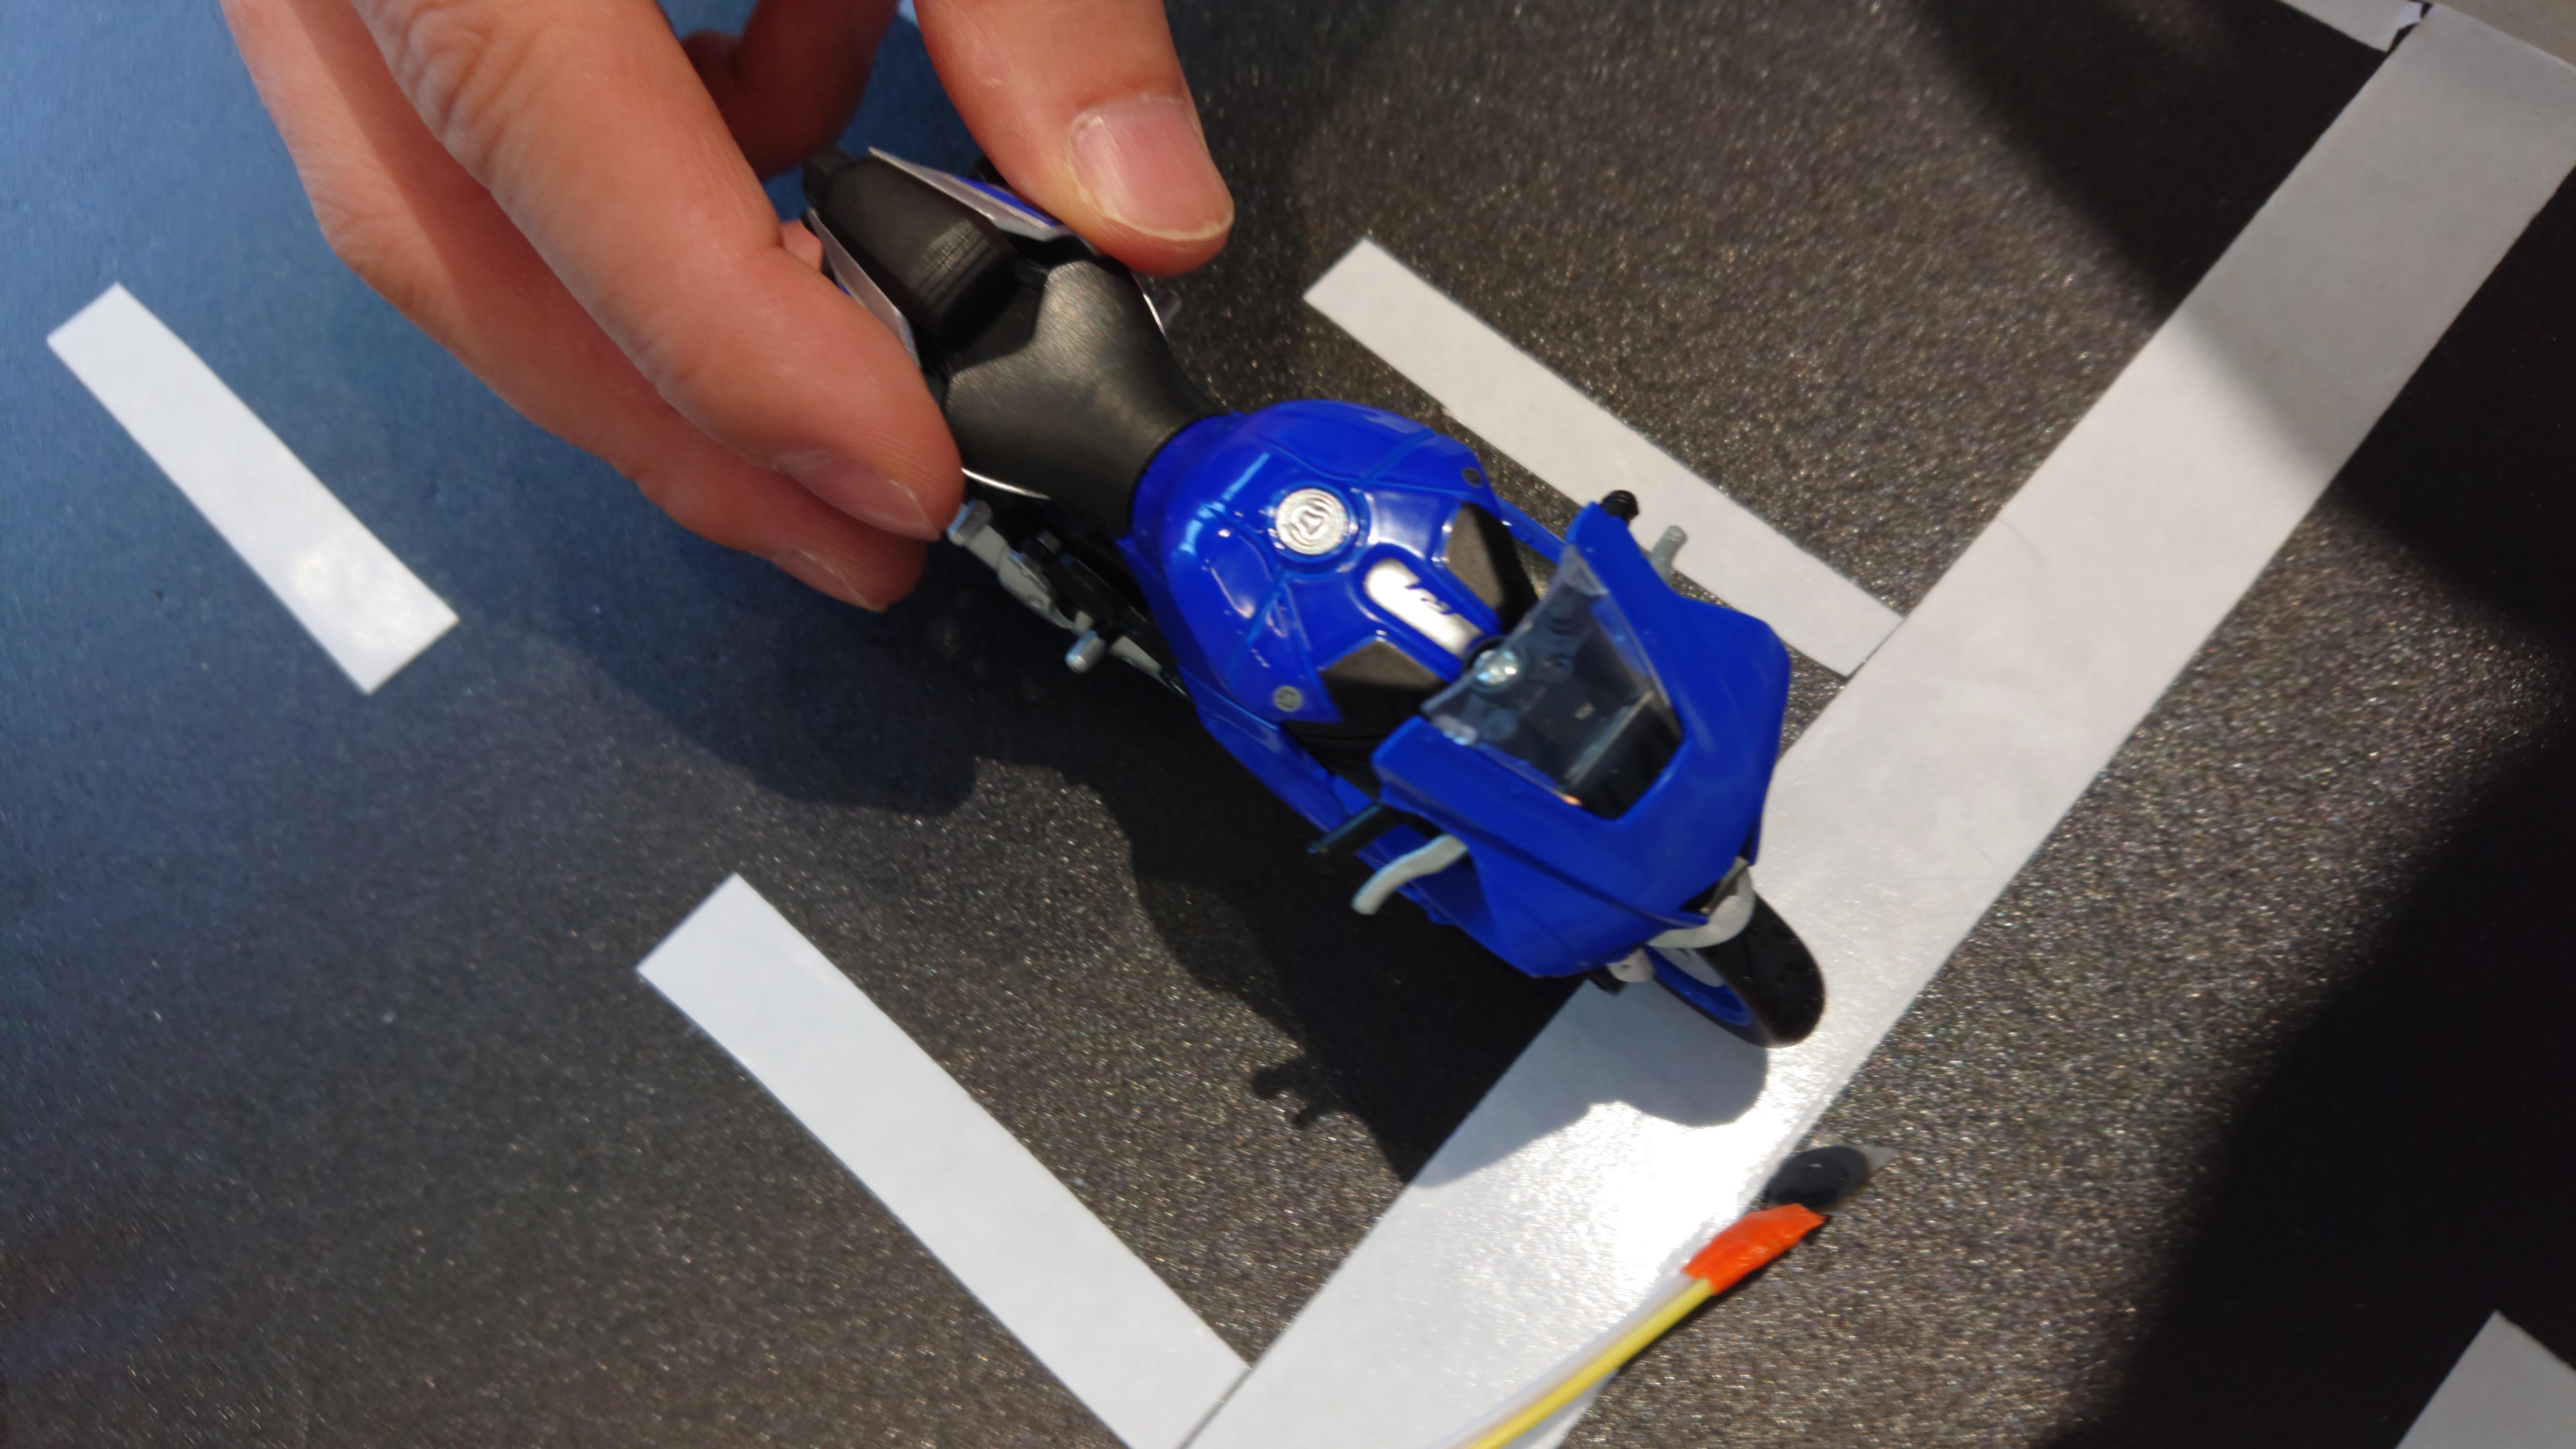Motorcycle: (777, 87, 1865, 1184)
